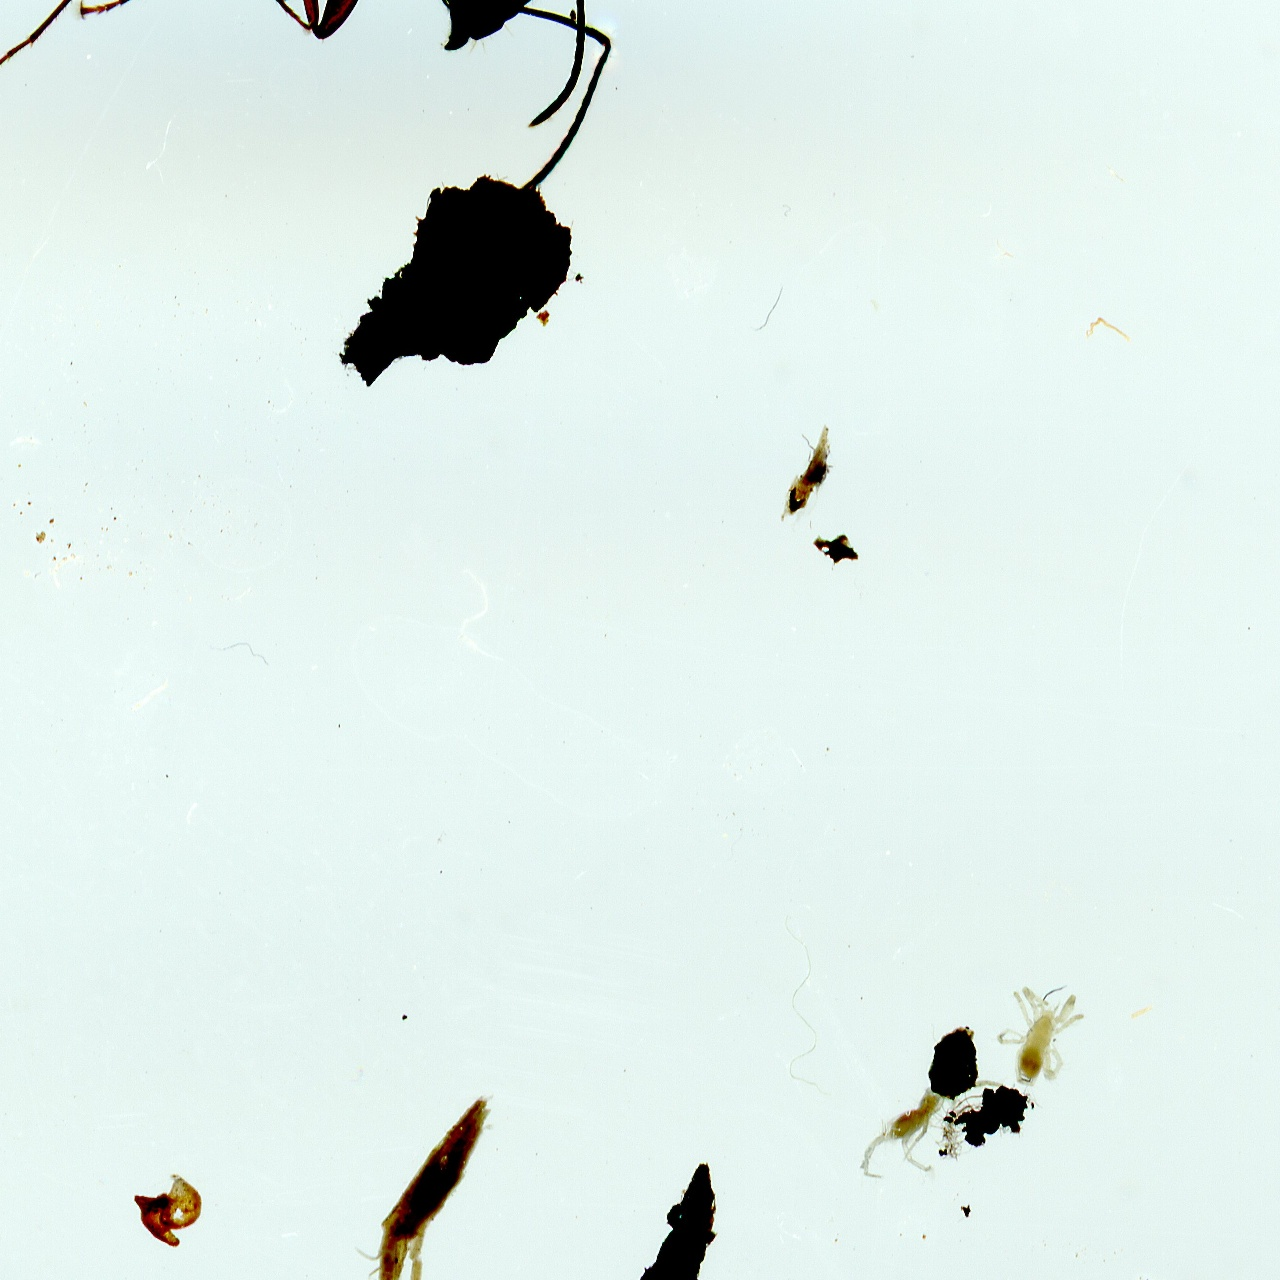arthropod: (0, 0, 621, 189), (846, 1042, 1010, 1208), (995, 982, 1089, 1089)
